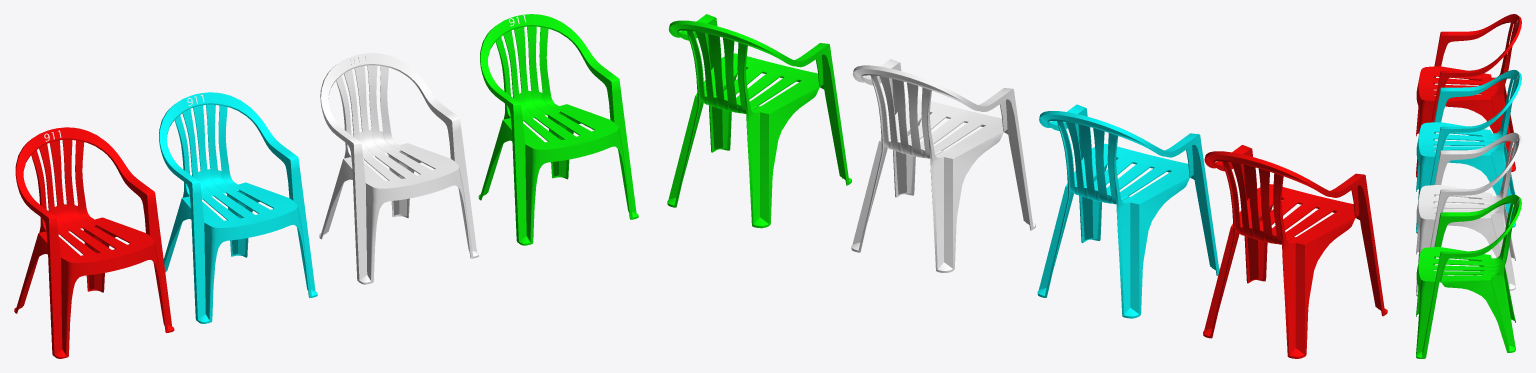
Rendered from plastic_chair.glb.
3 views of the same model, side by side, from view 1: azimuth 30°, elevation 25°; view 2: azimuth 150°, elevation 25°; view 3: azimuth 270°, elevation 25° (orthographic). The views are drawn at different scales.
Parts seen in each view (by area): view 1: polySurface15; view 2: polySurface15; view 3: polySurface15.
Part boxes in pixels (x1,y1,x2,y2): polySurface15: (14, 14, 638, 358); polySurface15: (667, 14, 1387, 358); polySurface15: (1416, 14, 1521, 358).
Bounding box in the file's own units: 3.18 × 0.8798 × 0.6276.
